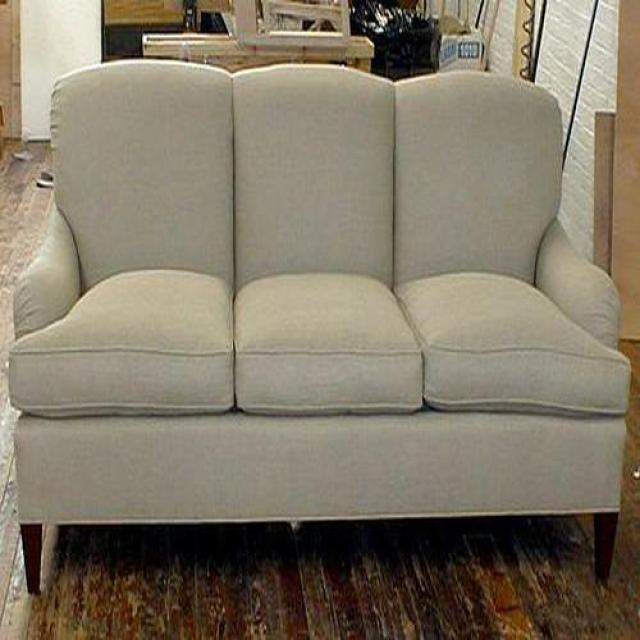sofa: (5, 59, 632, 599)
